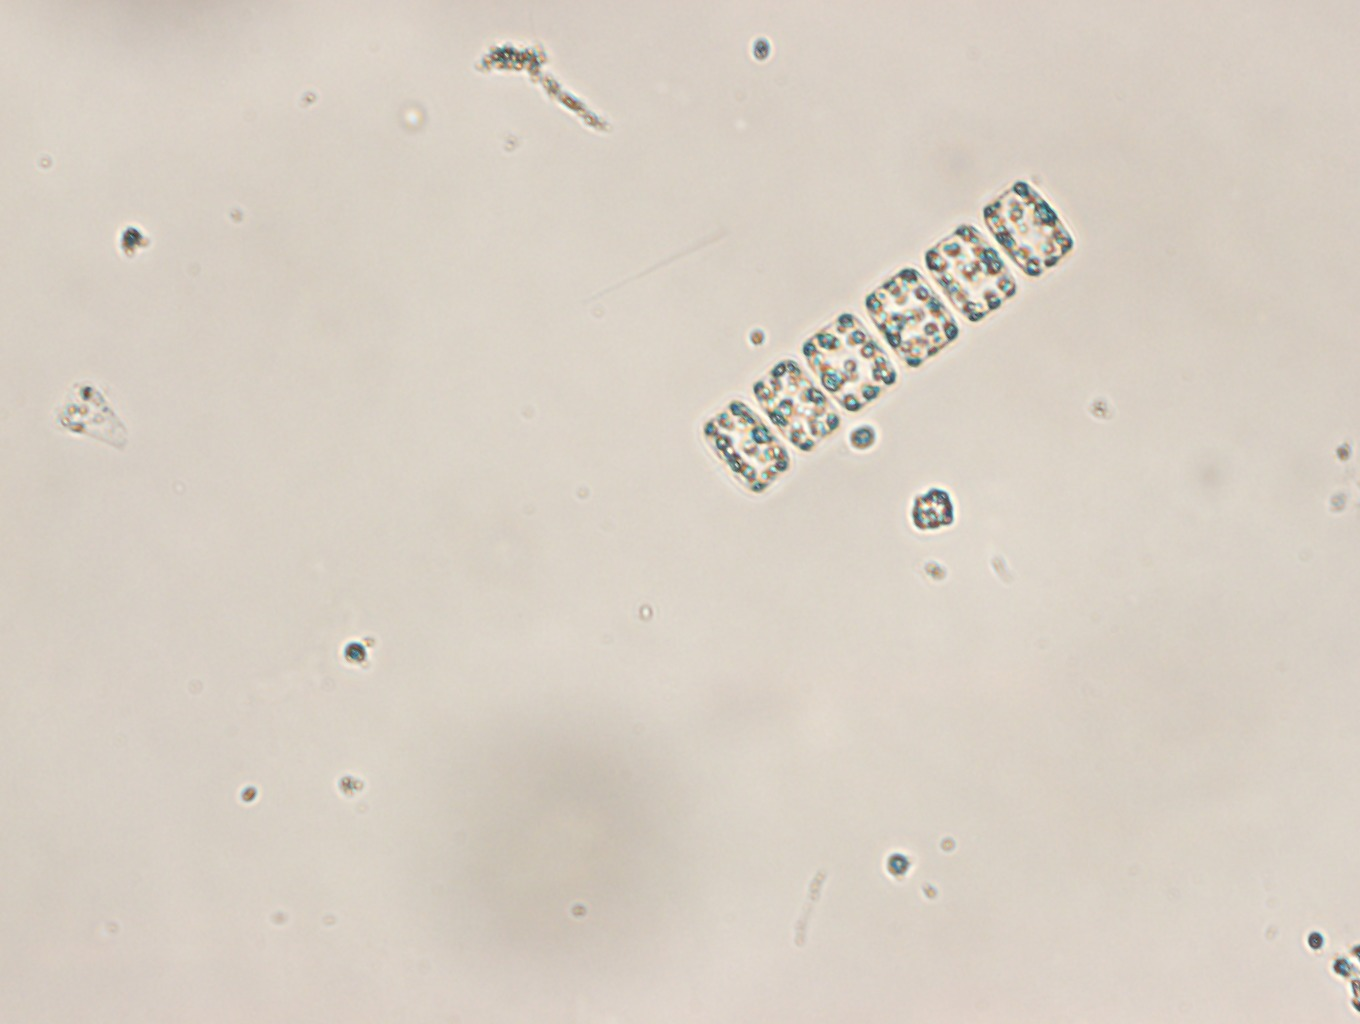detonula pumila: (700, 176, 1079, 497)
